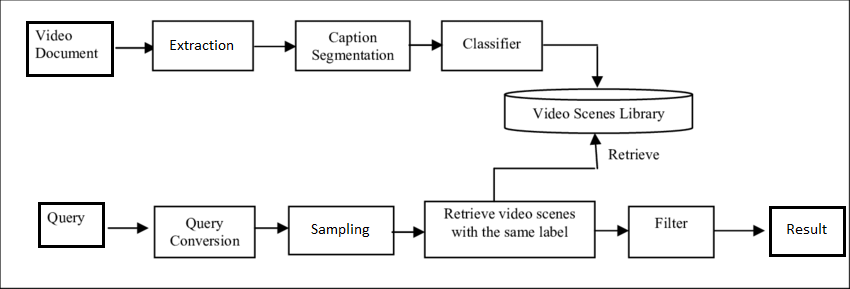arrow: (472, 132, 605, 197), (542, 40, 606, 87), (717, 225, 770, 237), (106, 221, 151, 235), (596, 222, 629, 240), (390, 224, 426, 240), (412, 37, 445, 53), (255, 41, 297, 53), (113, 42, 156, 53), (251, 221, 287, 233)
process: (422, 196, 598, 262), (500, 89, 696, 136), (294, 17, 413, 74), (287, 202, 395, 260), (151, 204, 259, 260), (151, 18, 256, 75), (441, 18, 545, 74), (24, 17, 117, 79), (626, 204, 716, 262), (766, 204, 849, 260), (36, 199, 106, 250)
text: (441, 206, 578, 241), (311, 28, 396, 63), (531, 105, 667, 122), (170, 215, 240, 248), (33, 27, 99, 61), (167, 37, 238, 55), (309, 221, 370, 239), (462, 36, 523, 53), (606, 146, 661, 162), (784, 221, 831, 239), (45, 210, 85, 227), (651, 215, 690, 231)
